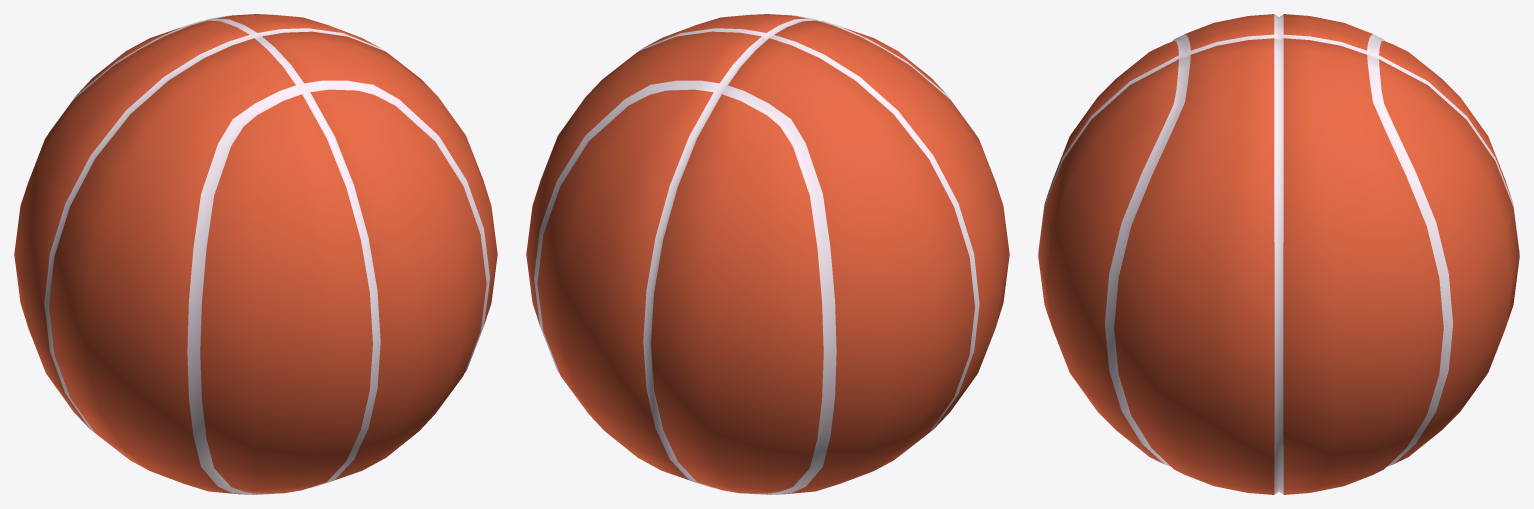
Rendered from BasketTopu.fbx.
The picture shows the model from 3 angles, left to right: view 1: azimuth 30°, elevation 25°; view 2: azimuth 150°, elevation 25°; view 3: azimuth 270°, elevation 25°; orthographic projection.
Parts seen in each view (by area): view 1: Basketball; view 2: Basketball; view 3: Basketball.
Boxes of the visible parts, left/top/right/bottom form: Basketball: left=14, top=14, right=497, bottom=494; Basketball: left=526, top=14, right=1009, bottom=494; Basketball: left=1038, top=14, right=1519, bottom=494.
Size of the model in its own units: 194 by 194 by 194.
